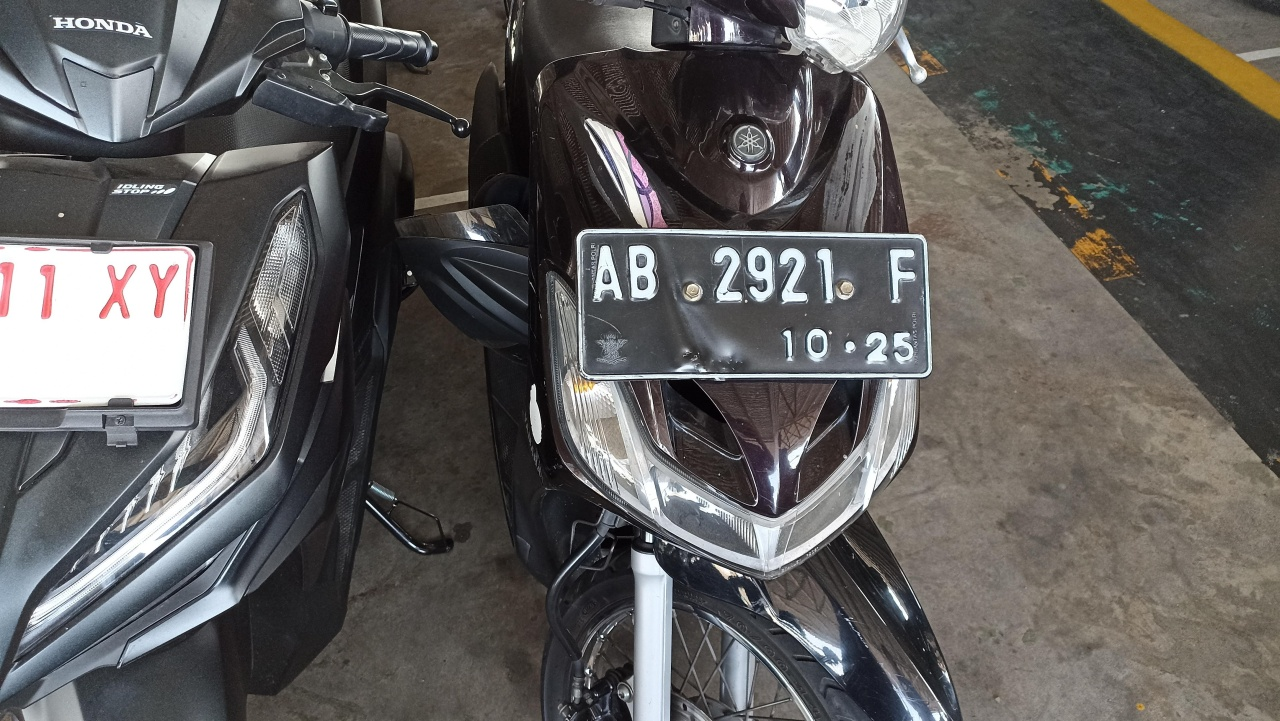plate: (579, 231, 931, 381)
